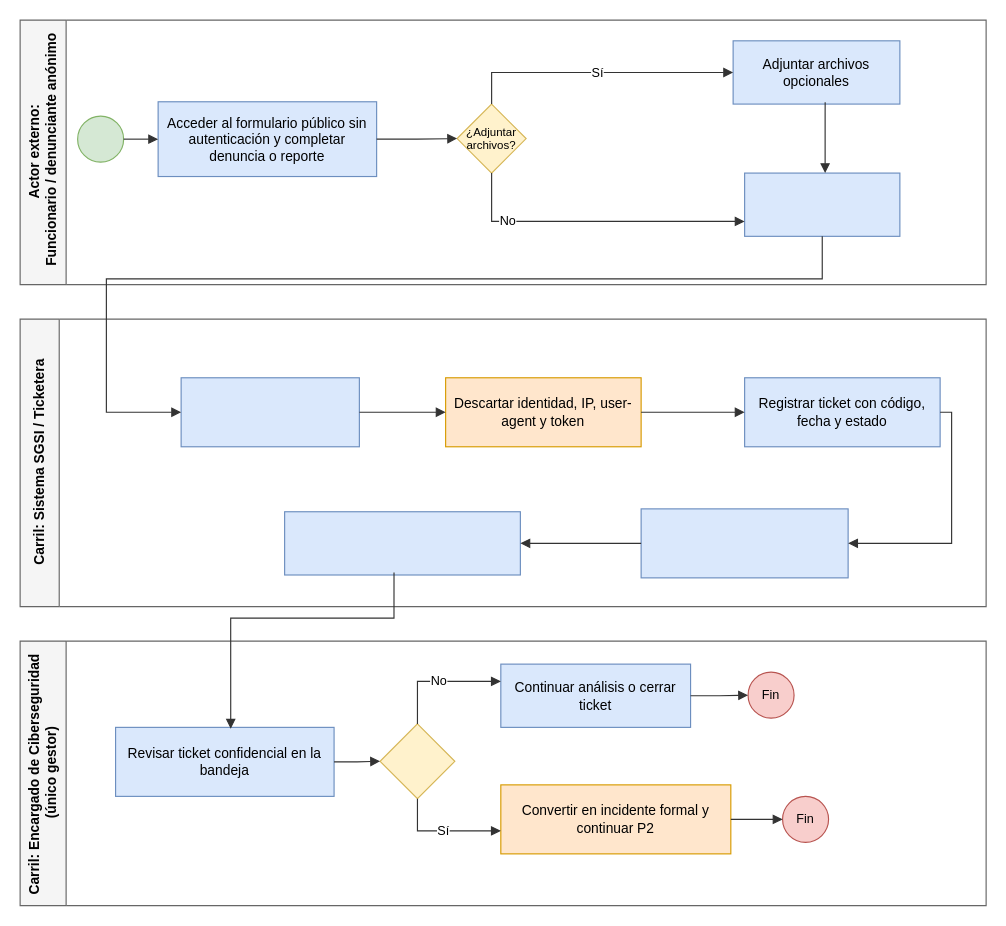
The diagram is 1006 pixels wide and 926 high, and some of its shapes have lost their labels. Each missing label, with the centre of its shape:
"Entregar código de seguimiento anónimo" goes at (x=401, y=543).
"Enviar formulario" goes at (x=821, y=204).
"Inicio" goes at (x=100, y=138).
"Notificar por SMTP institucional y/o bandeja" goes at (x=744, y=543).
"Validar campos, categoría y adjuntos" goes at (x=269, y=412).
"¿Derivar a incidente?" goes at (x=417, y=761).
